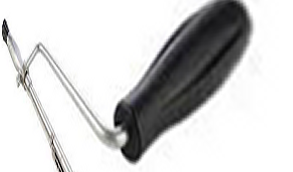Screwdriver: (1, 16, 162, 170)
